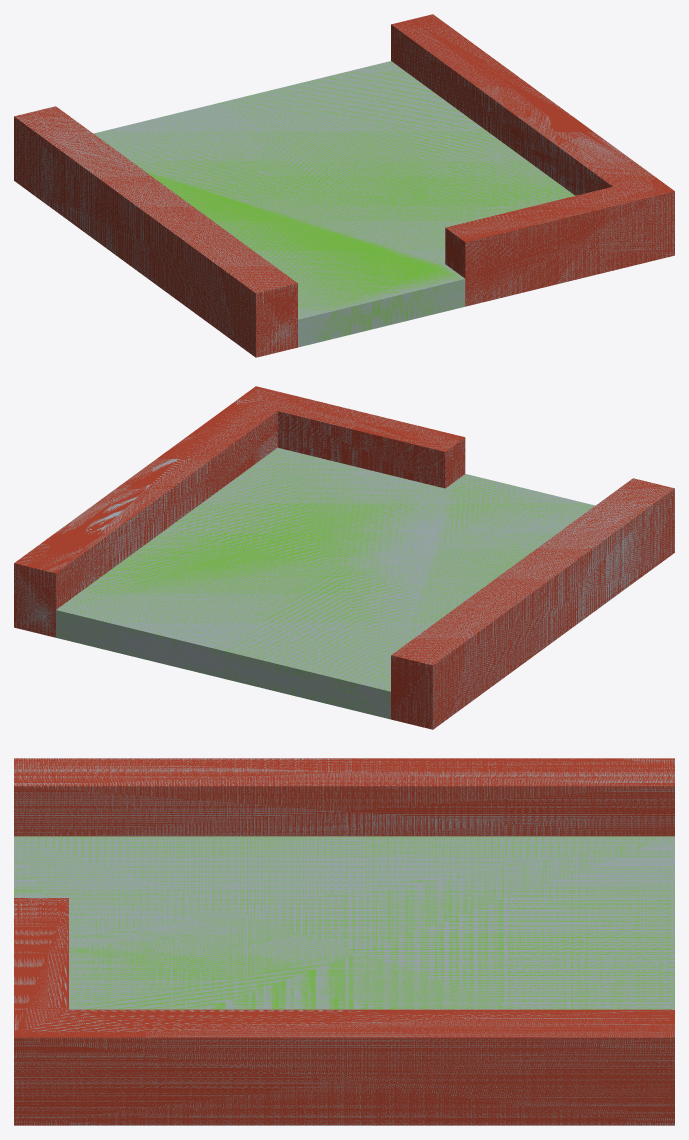
File: Wall_right_01.fbx
The picture shows the model from 3 angles, top to bottom: view 1: azimuth 30°, elevation 25°; view 2: azimuth 150°, elevation 25°; view 3: azimuth 270°, elevation 25°; orthographic projection. The views are drawn at different scales.
Visible parts, largest first — view 1: Mesh1_Wall_right Model; view 2: Mesh1_Wall_right Model; view 3: Mesh1_Wall_right Model.
Boxes of the visible parts, x1,y1,x2,y2 form: Mesh1_Wall_right Model: (14, 14, 674, 357); Mesh1_Wall_right Model: (14, 386, 674, 729); Mesh1_Wall_right Model: (14, 758, 674, 1125).
Bounding box in the file's own units: 3 × 0.44 × 3.
